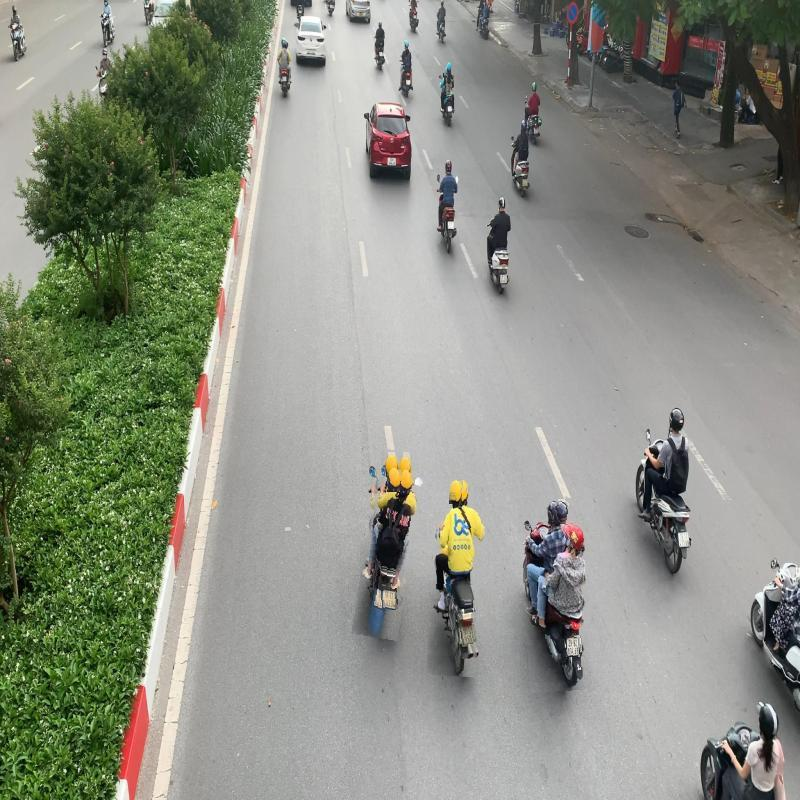helmet: (566, 524, 586, 552), (448, 480, 462, 506), (385, 452, 399, 477), (554, 501, 568, 524), (387, 469, 401, 492)
licenseplate: (382, 588, 398, 610), (461, 624, 478, 644), (566, 636, 580, 657)
motorcyclist: (520, 499, 589, 693), (358, 450, 419, 640), (430, 478, 485, 676)
